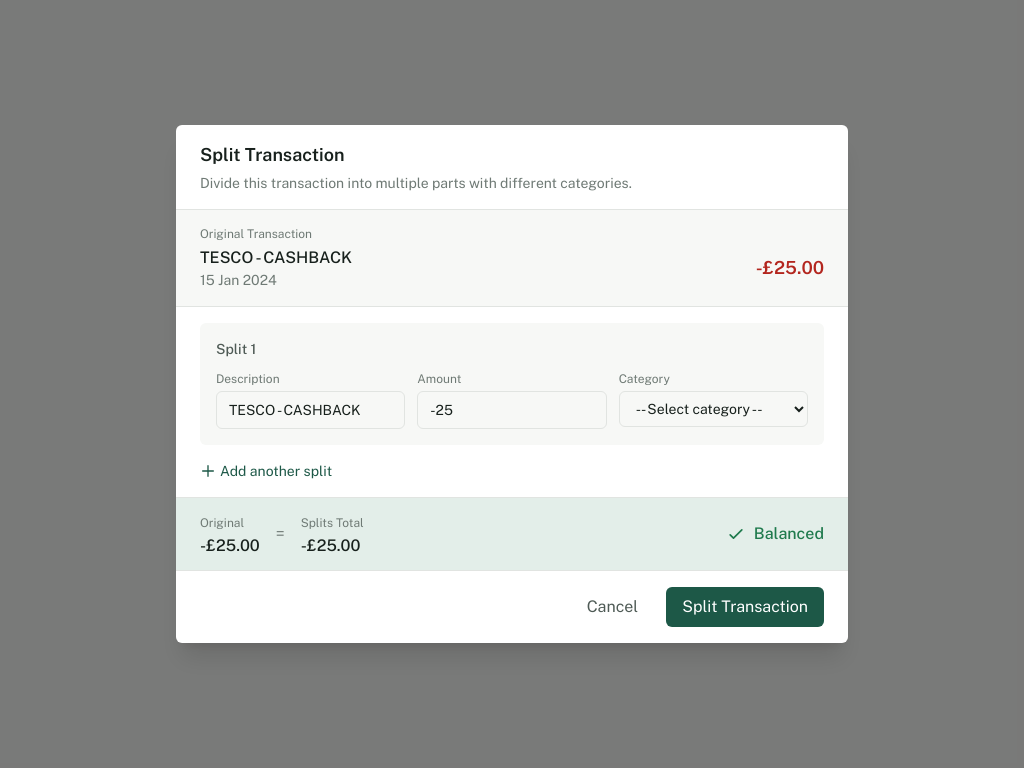
TransactionSplitter › Balance Validation › shows balanced when splits equal original
This screenshot has width=1024, height=768.
Step 1. Click the button "Add another split" → click(266, 471), box left=200, top=461, right=332, bottom=481
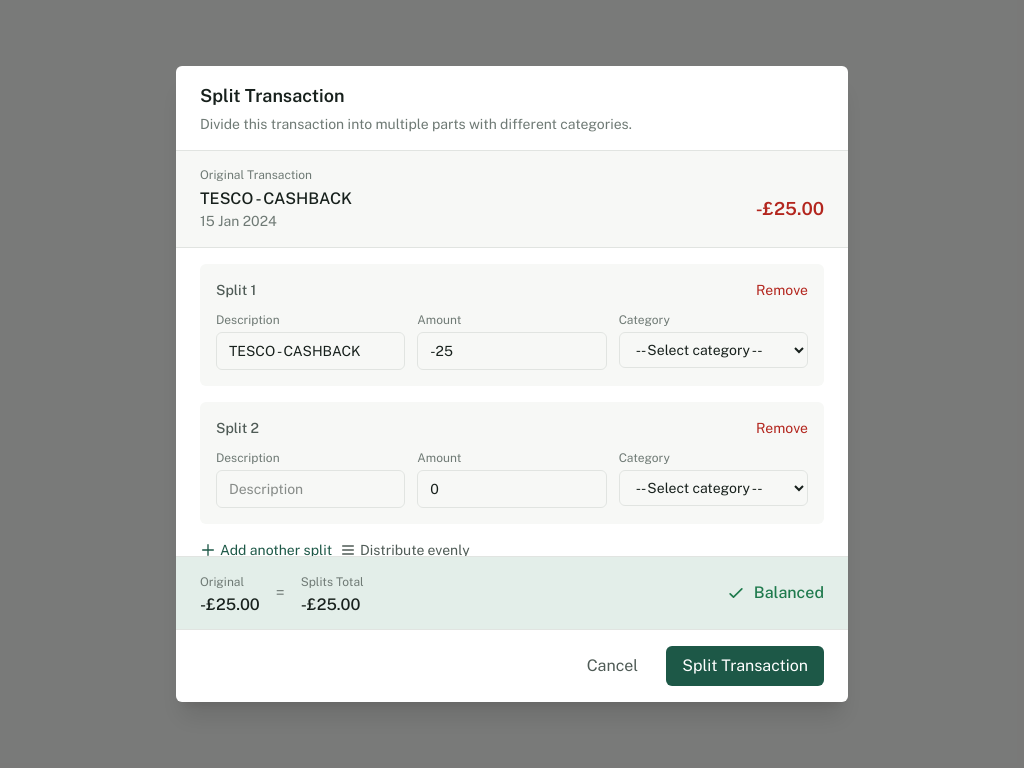
Step 2. Replace the text in the 1st number field with "-45" → (512, 351), box left=417, top=332, right=607, bottom=370
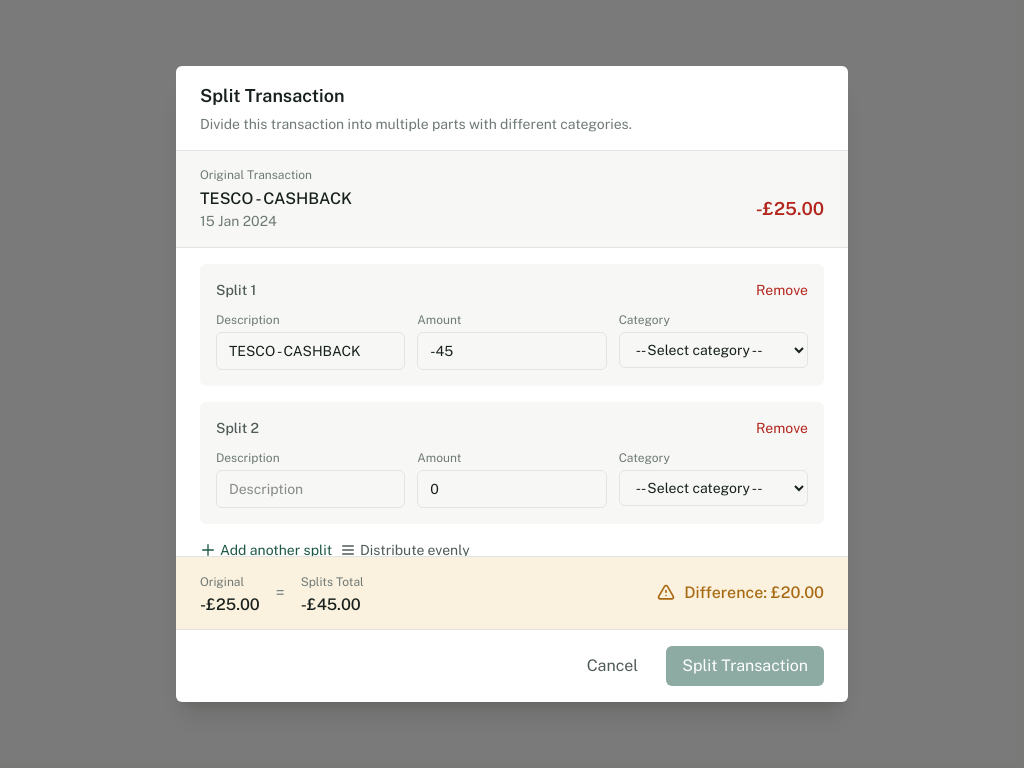
Step 3. Replace the text in the 2nd number field with "20" → (512, 489), box left=417, top=470, right=607, bottom=508
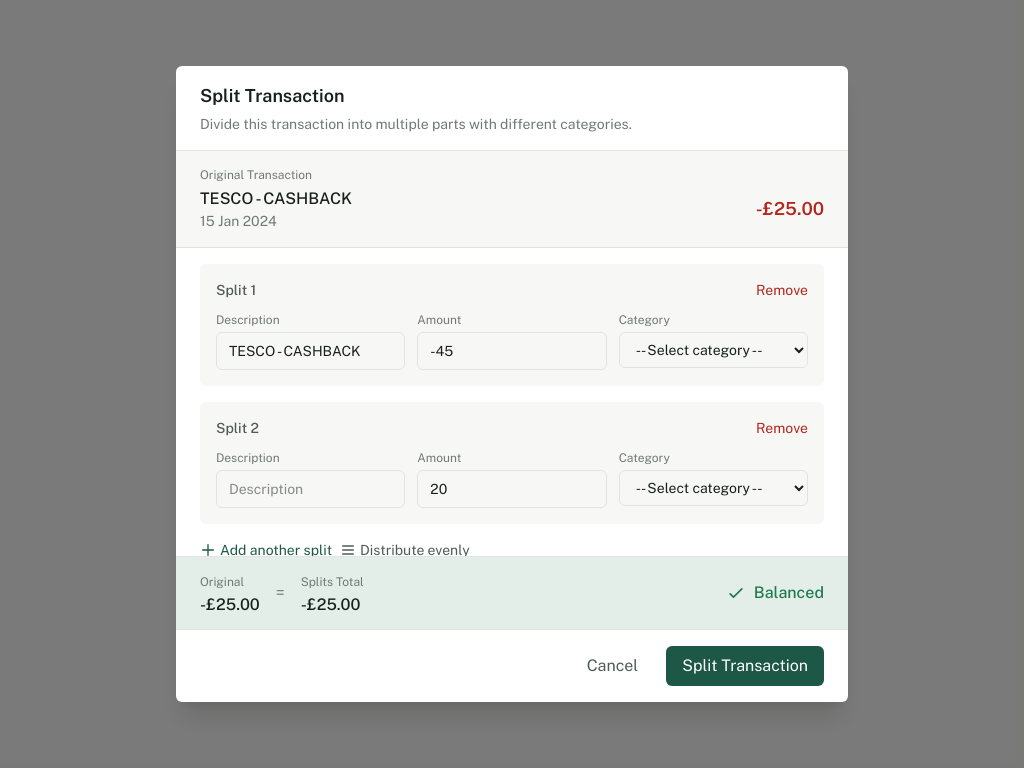
Expected: the text "Balanced" is shown, left=754, top=581, right=824, bottom=605
